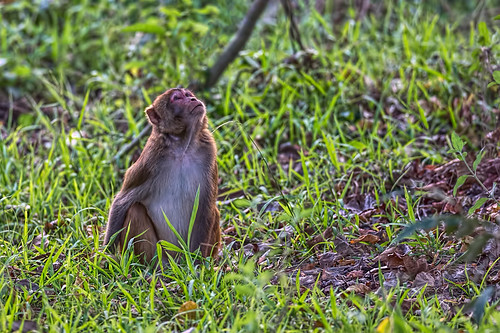monkey: (98, 81, 240, 296)
